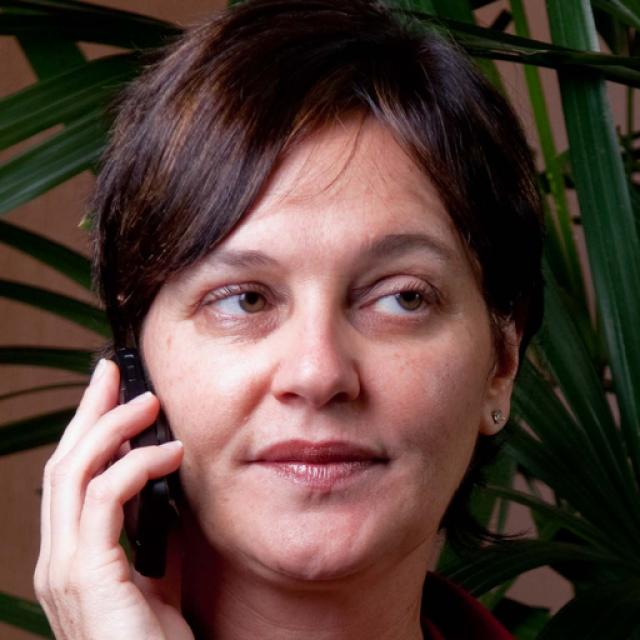Dark Circle: (350, 312, 442, 342), (203, 307, 280, 339)
